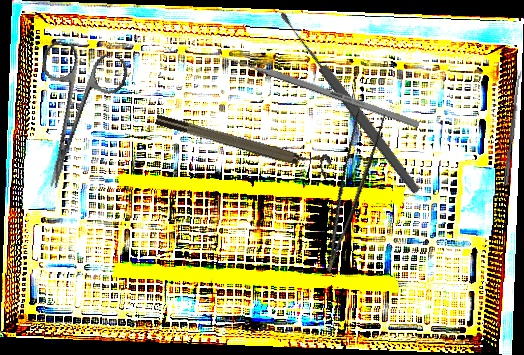Fixation Ring: (153, 103, 334, 181)
Iris Scissors: (9, 37, 131, 199)
Pusher: (212, 49, 421, 129)
Surgical Spoon: (276, 7, 423, 198), (503, 69, 523, 186)
Tissue Forceps: (300, 102, 392, 273)
